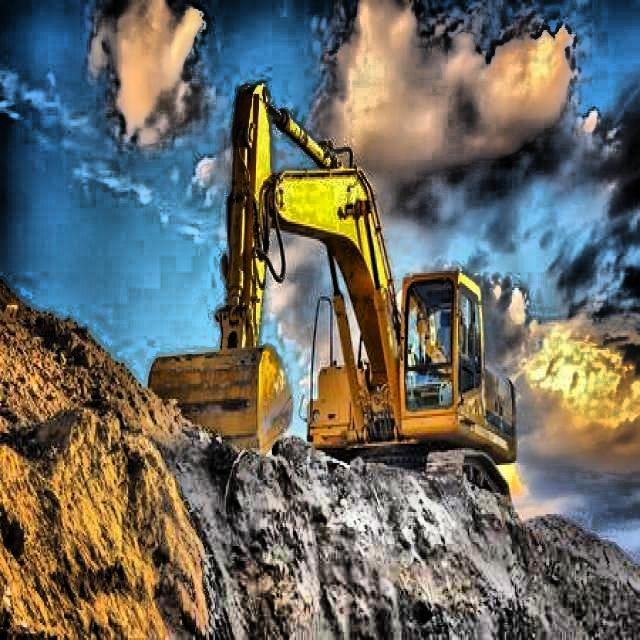excavator: (142, 78, 520, 509)
